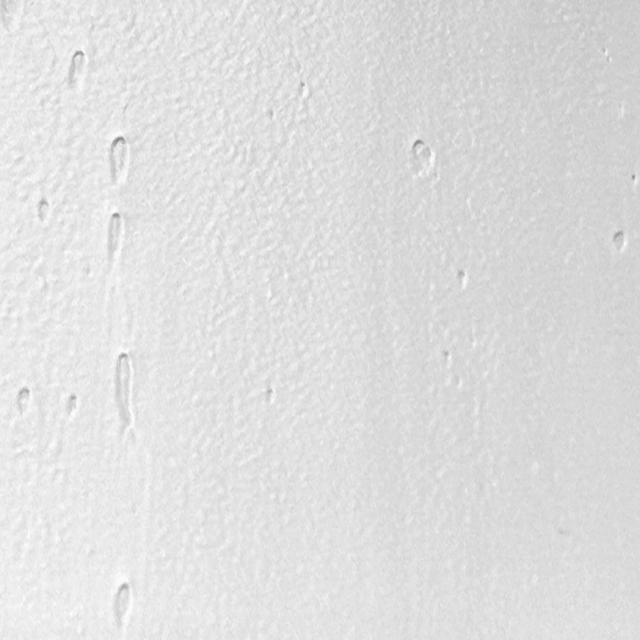pin holes: (114, 348, 135, 442), (109, 580, 140, 636), (108, 132, 137, 186), (408, 140, 440, 183), (104, 213, 128, 255), (64, 48, 88, 87), (13, 386, 34, 417), (610, 227, 631, 255), (36, 197, 56, 225), (65, 393, 83, 419), (438, 347, 456, 373), (452, 268, 470, 293), (295, 78, 312, 101), (263, 385, 279, 409), (266, 107, 278, 125), (628, 172, 637, 187)
